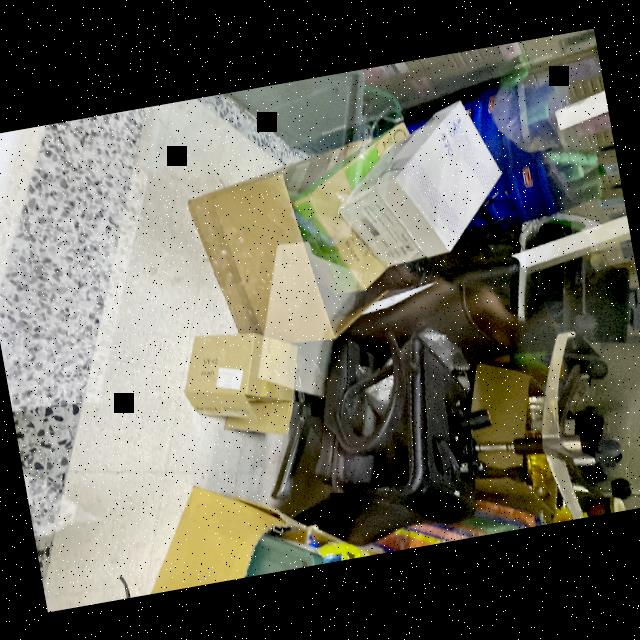cardboard_box: (182, 130, 415, 367), (322, 89, 518, 282), (142, 458, 332, 592), (176, 308, 315, 456)
